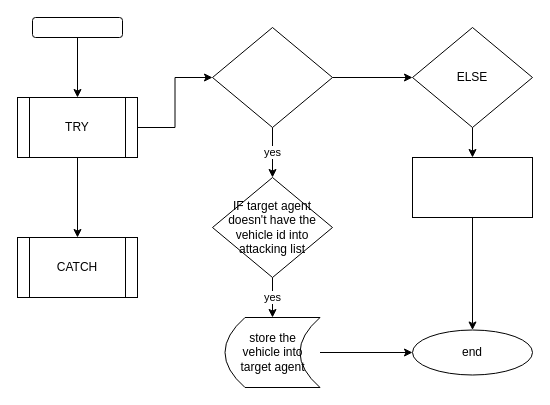
The diagram is 550 pixels wide and 405 high, and some of its shapes have lost their labels. The centre of each missing label's shape, as x and y in pixels:
"IF target agent and vehicle has attackAgents array" goes at point (272, 77).
"start" goes at point (77, 27).
"user console" goes at point (472, 187).
